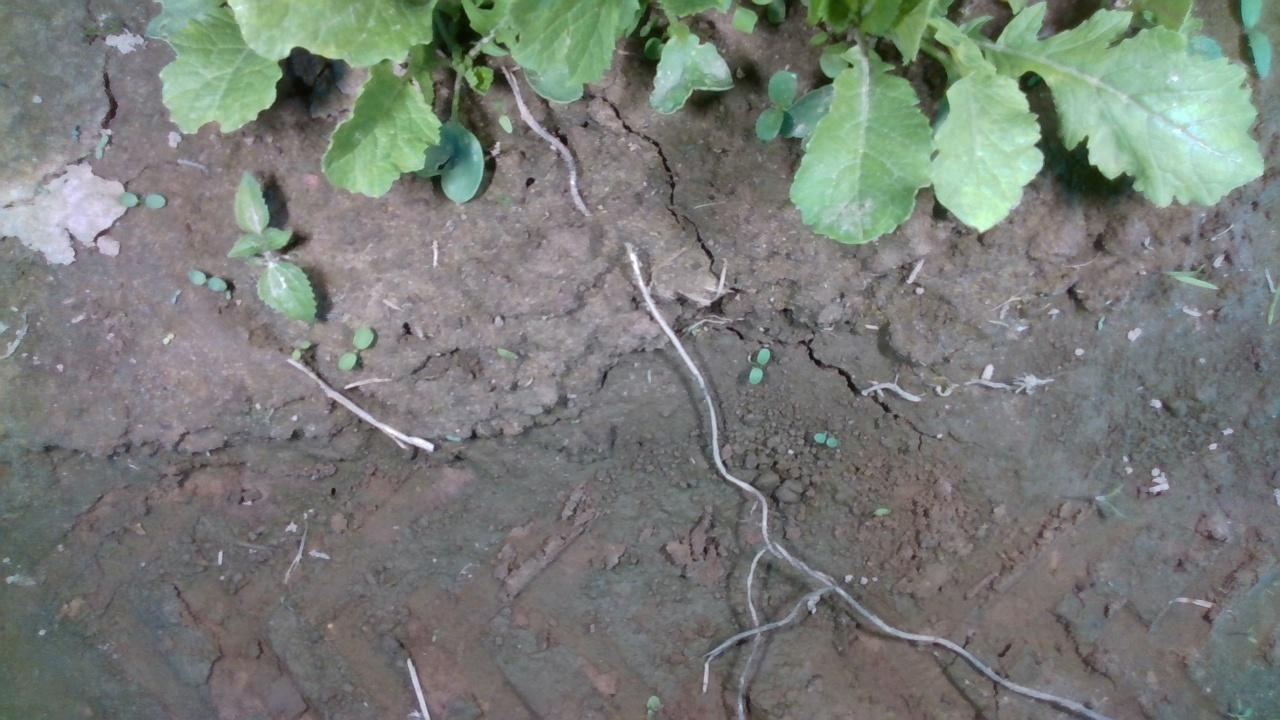weed: (335, 325, 375, 371), (113, 190, 167, 210), (746, 345, 771, 385), (185, 268, 226, 290), (810, 429, 840, 449), (289, 338, 311, 361), (91, 132, 109, 160), (169, 284, 183, 304), (160, 330, 174, 345)
